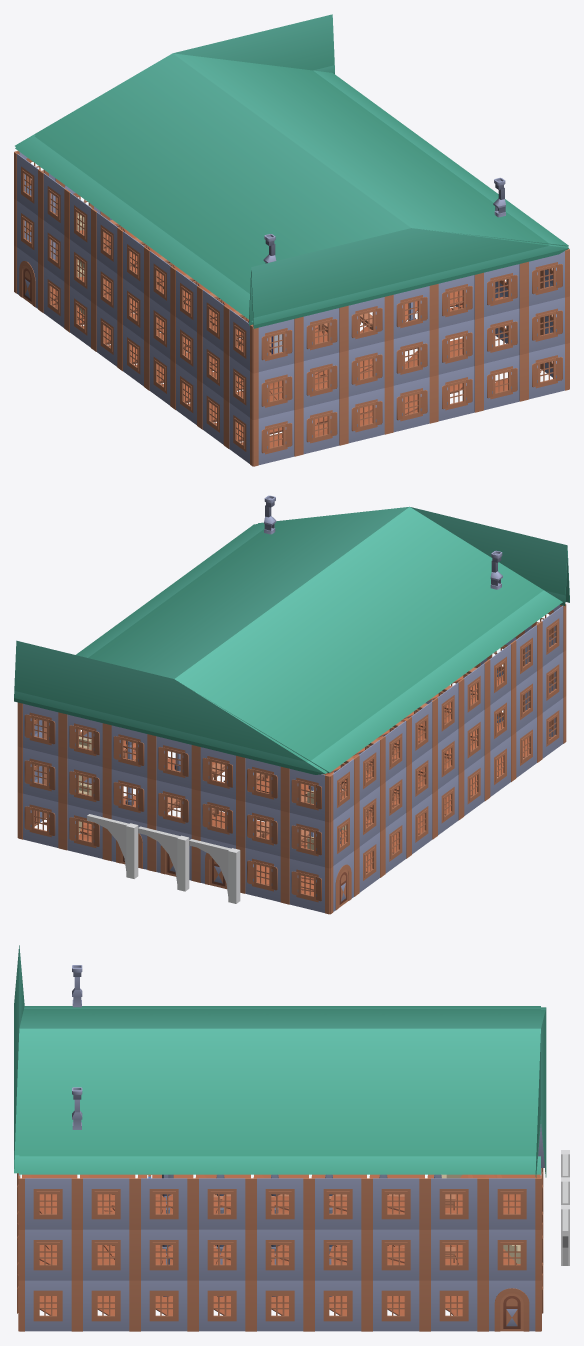
The model's file is london_bld_opera.glb.
3 renders of one model, top to bottom at view 1: azimuth 30°, elevation 25°; view 2: azimuth 150°, elevation 25°; view 3: azimuth 270°, elevation 25°, orthographic. The views are drawn at different scales.
Parts seen in each view (by area): view 1: wall-window-shutters (×47), roof-gable (×9), roof-gable-end (×2), platform-planks (×2), wall-door; view 2: roof-gable (×9), wall-window-shutters (×44), roof-gable-end (×2), Grey_Arch_01 (×3), wall-door (×4); view 3: roof-gable (×9), wall-window-shutters (×26), platform-planks (×10), roof-gable-end (×2), wall-door, door, Grey_Arch_01.
Boxes of the visible parts, bbox=[...] form: wall-window-shutters (×47): bbox=[14, 152, 569, 466]; roof-gable (×9): bbox=[15, 53, 568, 322]; roof-gable-end (×2): bbox=[15, 14, 569, 328]; platform-planks (×2): bbox=[242, 351, 541, 447]; wall-door: bbox=[14, 245, 40, 310]; roof-gable (×9): bbox=[76, 507, 562, 772]; wall-window-shutters (×44): bbox=[18, 604, 566, 914]; roof-gable-end (×2): bbox=[14, 507, 569, 774]; Grey_Arch_01 (×3): bbox=[87, 814, 240, 903]; wall-door (×4): bbox=[107, 814, 356, 914]; roof-gable (×9): bbox=[19, 1006, 540, 1174]; wall-window-shutters (×26): bbox=[19, 1178, 540, 1331]; platform-planks (×10): bbox=[22, 1174, 539, 1315]; roof-gable-end (×2): bbox=[14, 945, 546, 1177]; wall-door: bbox=[483, 1280, 540, 1331]; door: bbox=[500, 1293, 523, 1331]; Grey_Arch_01: bbox=[561, 1205, 569, 1265].
Size of the model in its own units: 22.3 by 13.33 by 30.69.
Materials: 14 (11 with a texture image).
